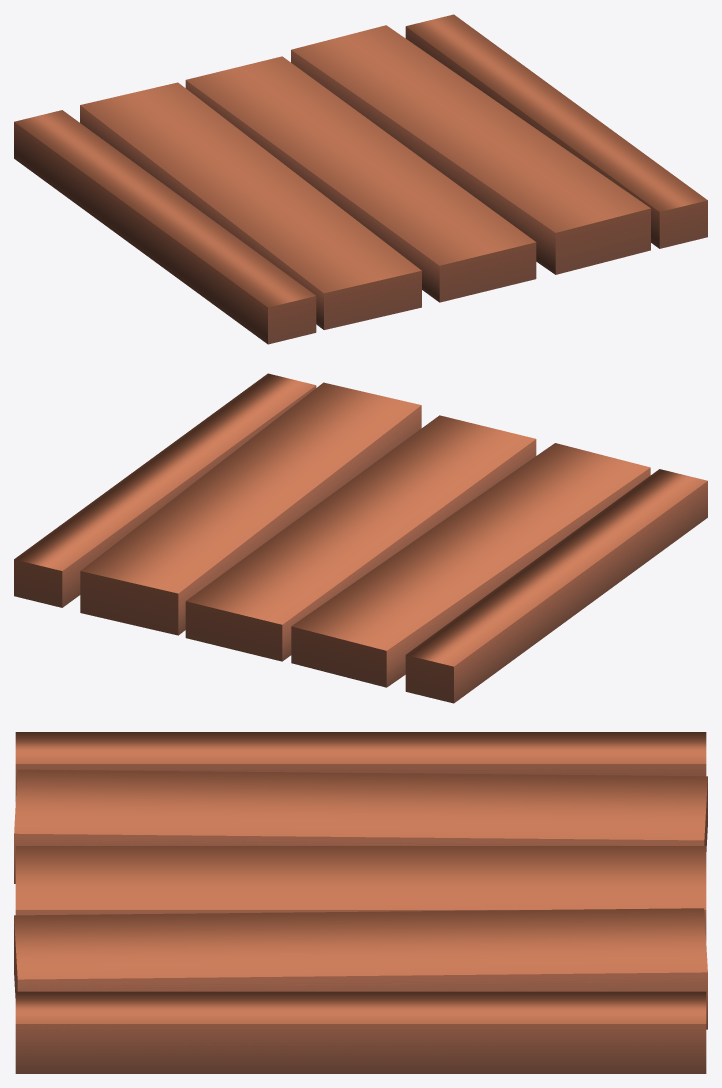
The model's file is platform-simplified.glb.
The picture shows the model from 3 angles, top to bottom: view 1: azimuth 30°, elevation 25°; view 2: azimuth 150°, elevation 25°; view 3: azimuth 270°, elevation 25°; orthographic projection. The views are drawn at different scales.
Visible parts, largest first — view 1: platform; view 2: platform; view 3: platform.
Boxes of the visible parts, box(x1,y1,x2,y2) form: platform: box(14, 14, 707, 344); platform: box(14, 373, 707, 703); platform: box(14, 732, 707, 1073).
Size of the model in its own units: 2.5 by 0.228 by 2.51.
1 material, 1 textured.
